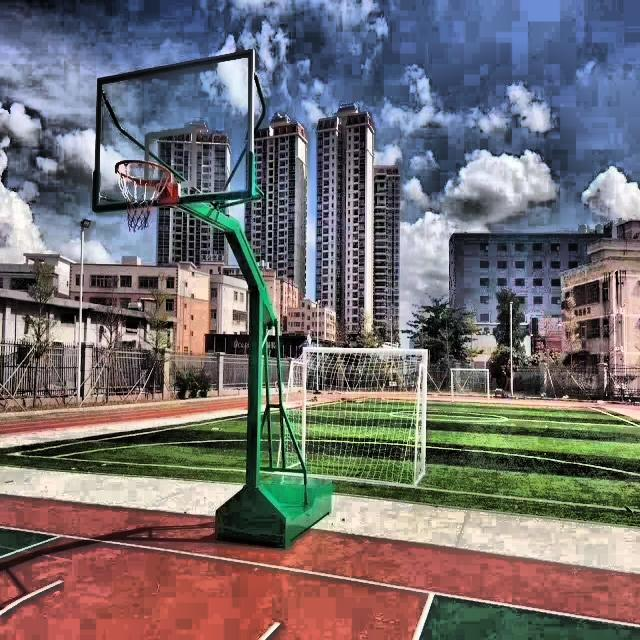rim: (115, 159, 172, 232)
